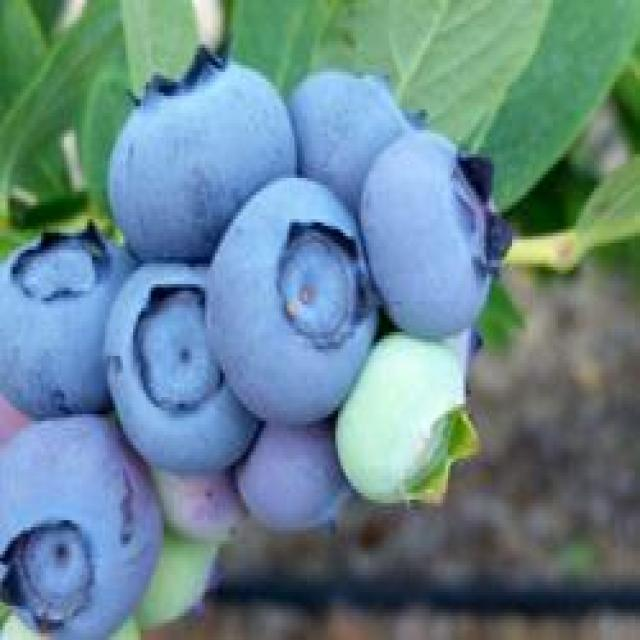BlueBerry - v1: (95, 28, 317, 270), (197, 168, 392, 434), (0, 407, 179, 640), (97, 246, 274, 476), (356, 116, 522, 352), (328, 312, 497, 530), (0, 212, 164, 435), (282, 65, 432, 212), (230, 397, 372, 548), (143, 448, 269, 568)
